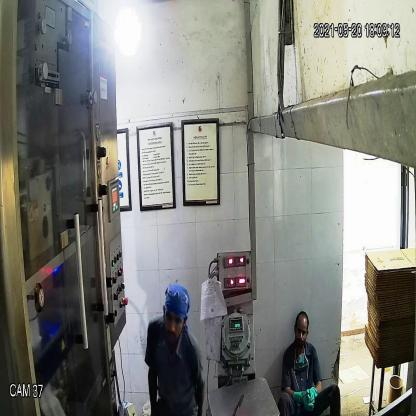no_goggles: (161, 307, 188, 330), (290, 321, 309, 340)
